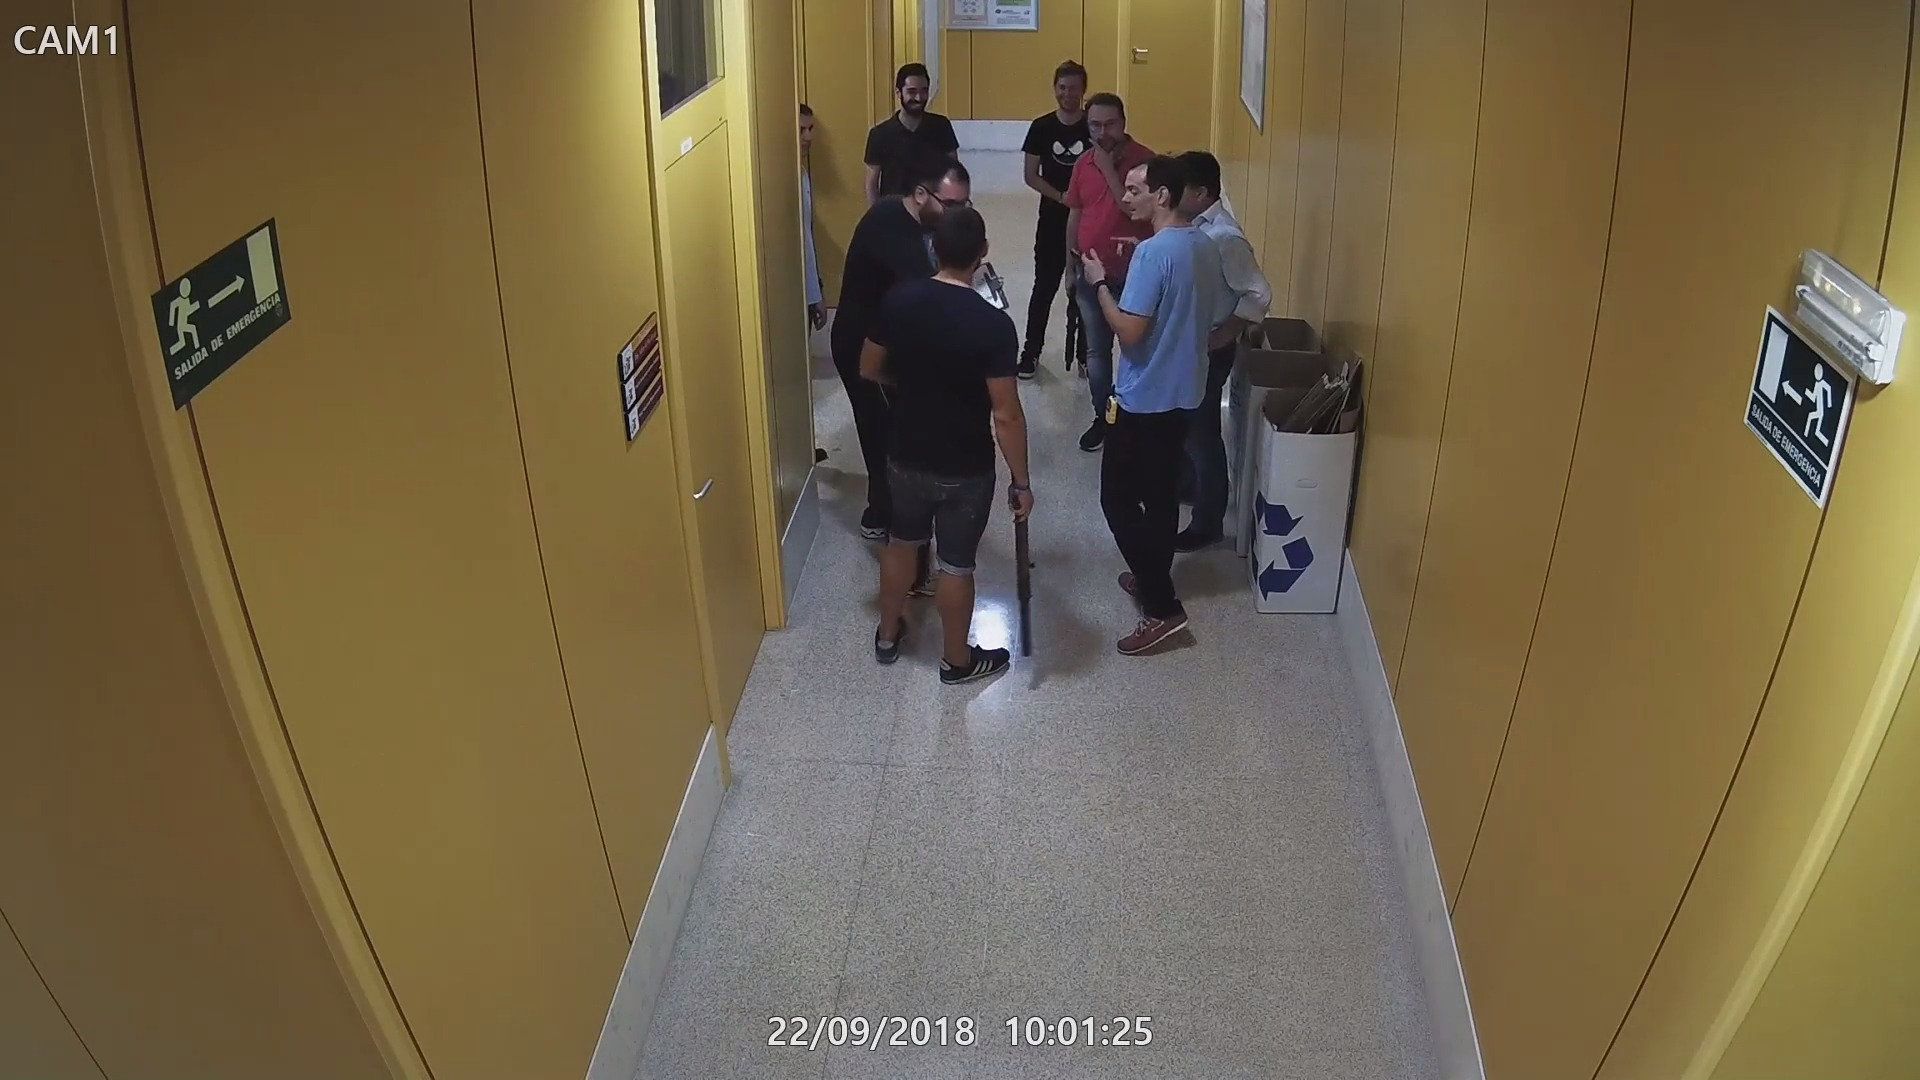Handgun: (1065, 244, 1091, 295)
Short_rifle: (1006, 475, 1040, 665), (1058, 274, 1084, 378)
